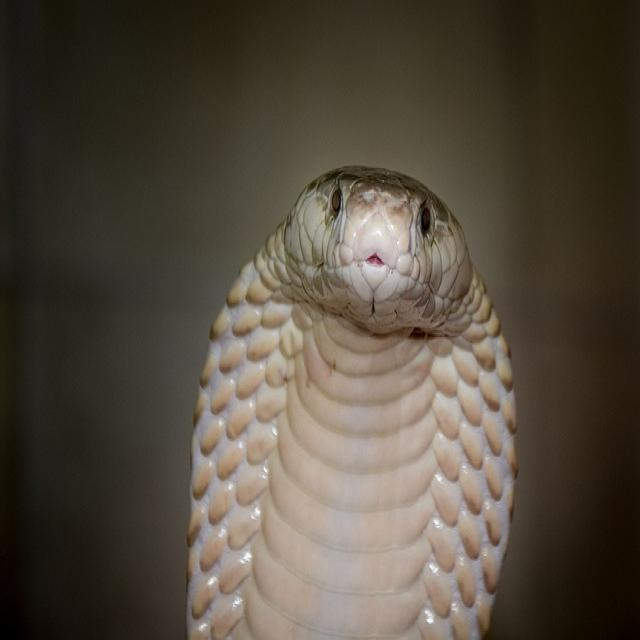Venomous: (173, 130, 548, 562)
